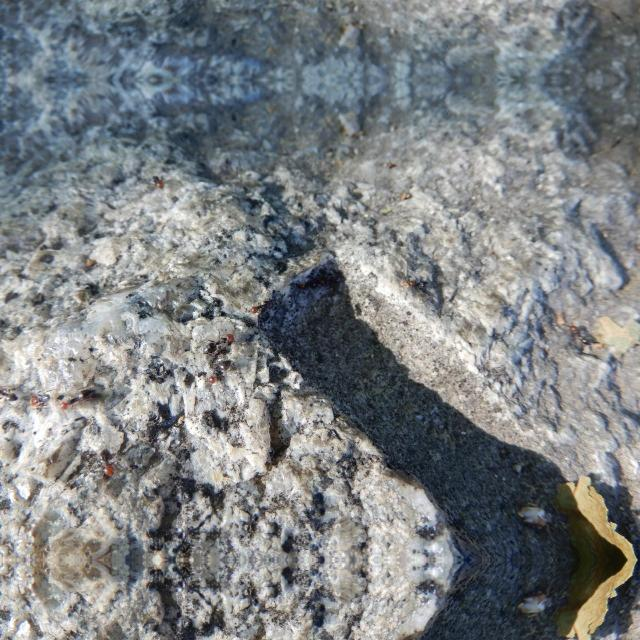Crematogaster: (89, 436, 118, 480), (62, 386, 94, 414), (207, 354, 235, 384), (200, 330, 236, 352), (566, 320, 592, 348), (0, 381, 26, 407), (27, 390, 53, 410), (252, 298, 280, 312)
